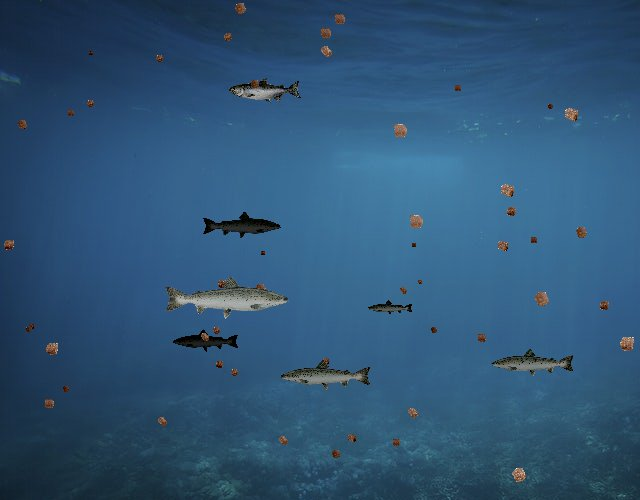Fish: (162, 274, 291, 320), (279, 359, 373, 393), (490, 347, 576, 378), (201, 210, 282, 239), (229, 77, 302, 104), (173, 328, 241, 353), (367, 300, 414, 316)
Pellet: (612, 328, 640, 359), (314, 40, 338, 64), (228, 0, 252, 20), (12, 114, 33, 135), (218, 28, 237, 47), (82, 95, 98, 111), (544, 101, 557, 114), (25, 321, 37, 333)
